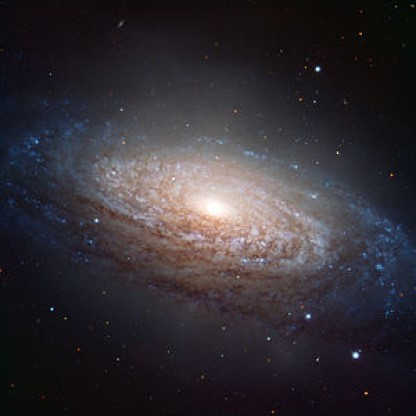NGC 3521: (22, 105, 412, 364)
